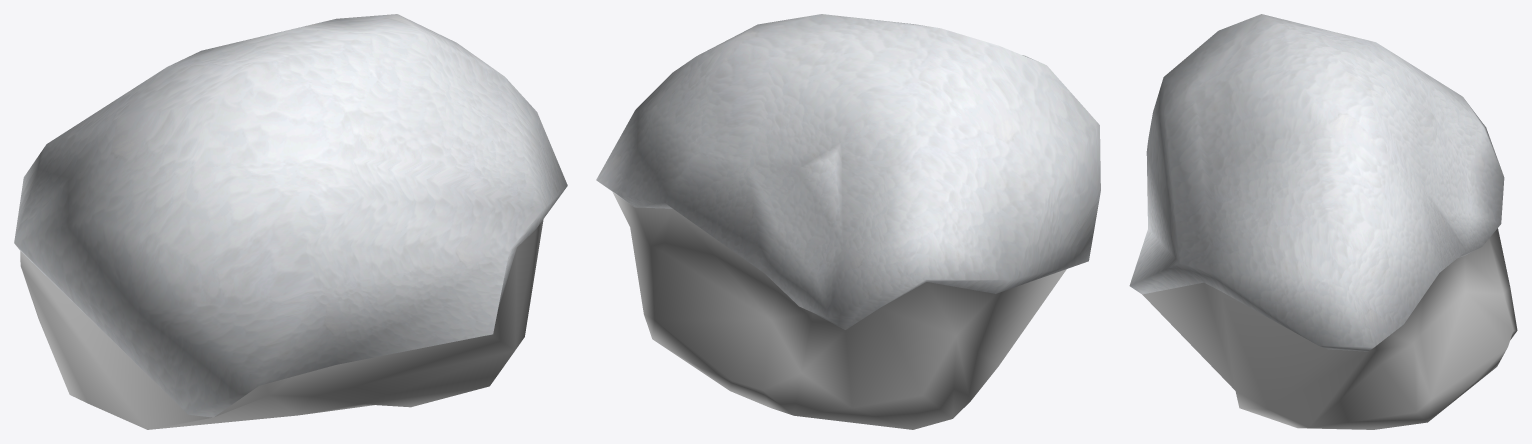
Rendered from rock_s06a.fbx.
3 renders of one model, left to right at view 1: azimuth 30°, elevation 25°; view 2: azimuth 150°, elevation 25°; view 3: azimuth 270°, elevation 25°, orthographic. The views are drawn at different scales.
Visible parts, largest first — view 1: rock_s06a; view 2: rock_s06a; view 3: rock_s06a.
Part boxes in pixels (bbox=[...]): rock_s06a: bbox=[14, 14, 567, 429]; rock_s06a: bbox=[596, 14, 1100, 429]; rock_s06a: bbox=[1129, 14, 1517, 429].
Bounding box in the file's own units: 355 × 249 × 284.
